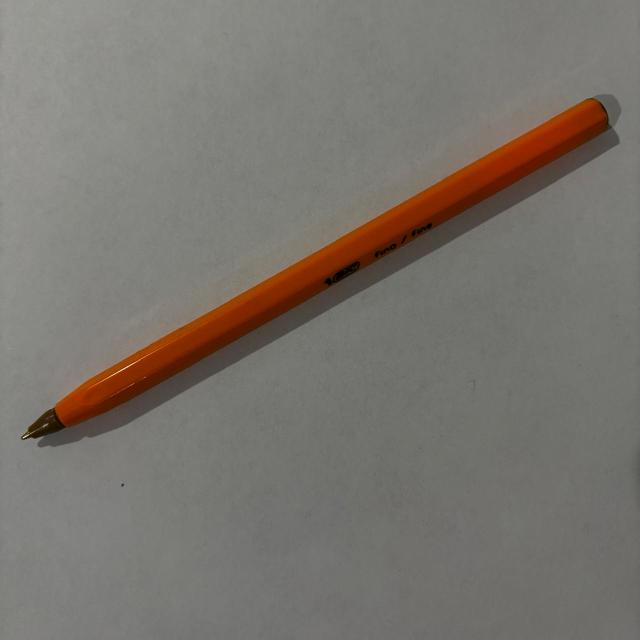pencil: (22, 96, 610, 440)
